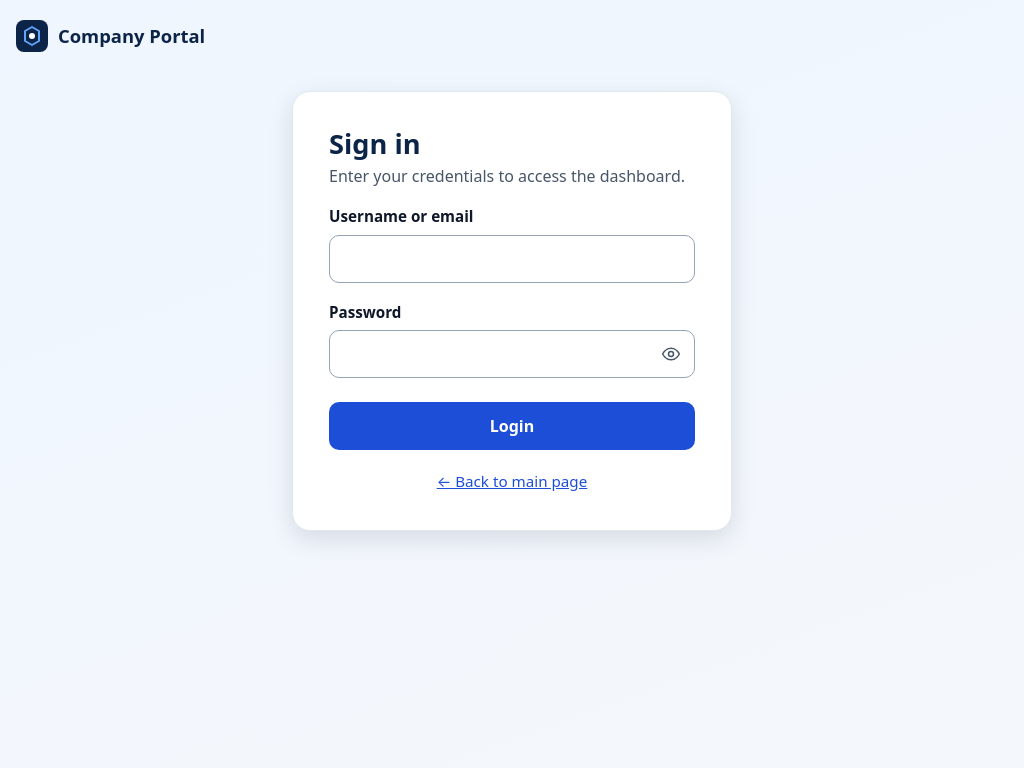
Test: login › navigates to the dashboard after a successful login
Type "asha" into the field labelled "Username or email".
click(512, 259); type("asha")  # box [329, 235, 695, 283]
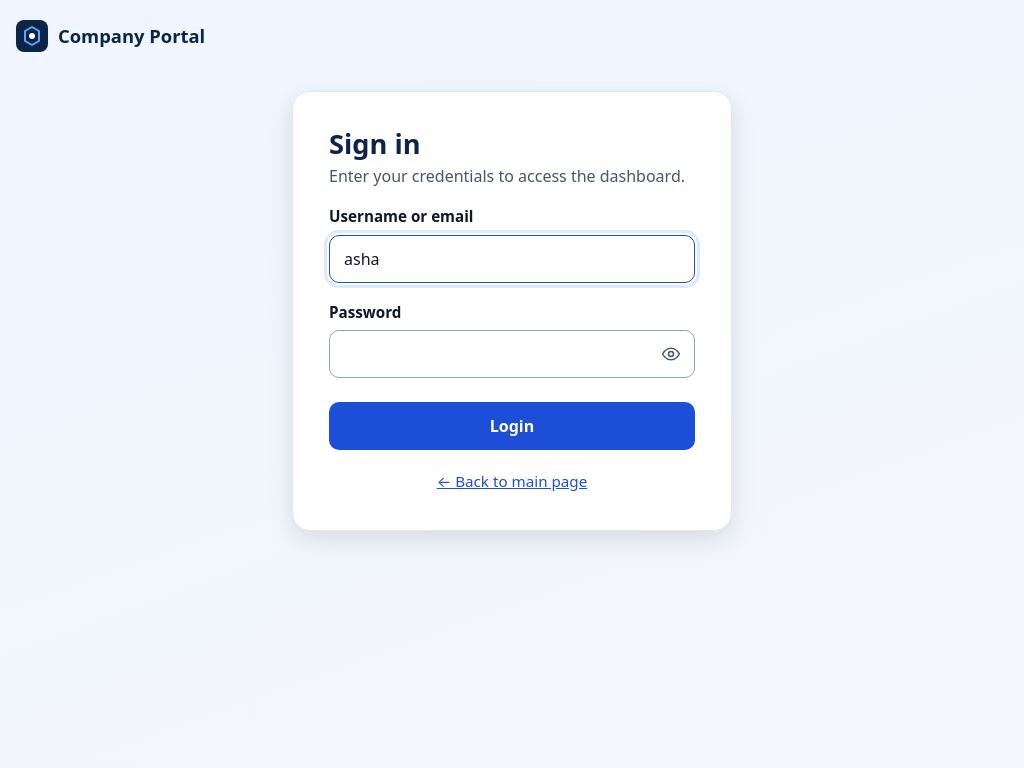
Type "Correct-horse-9" into the password field labelled "Password".
click(512, 354); type("Correct-horse-9")  # box [329, 330, 695, 378]
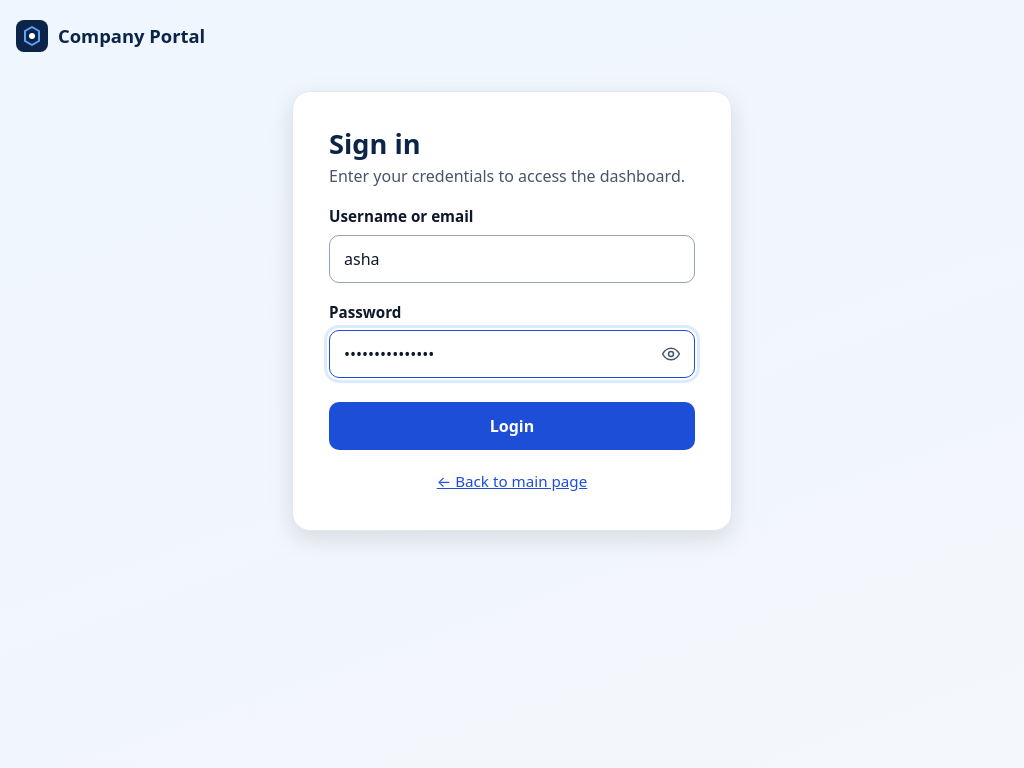
Click the button "Login".
click(512, 426)  # box [329, 402, 695, 450]
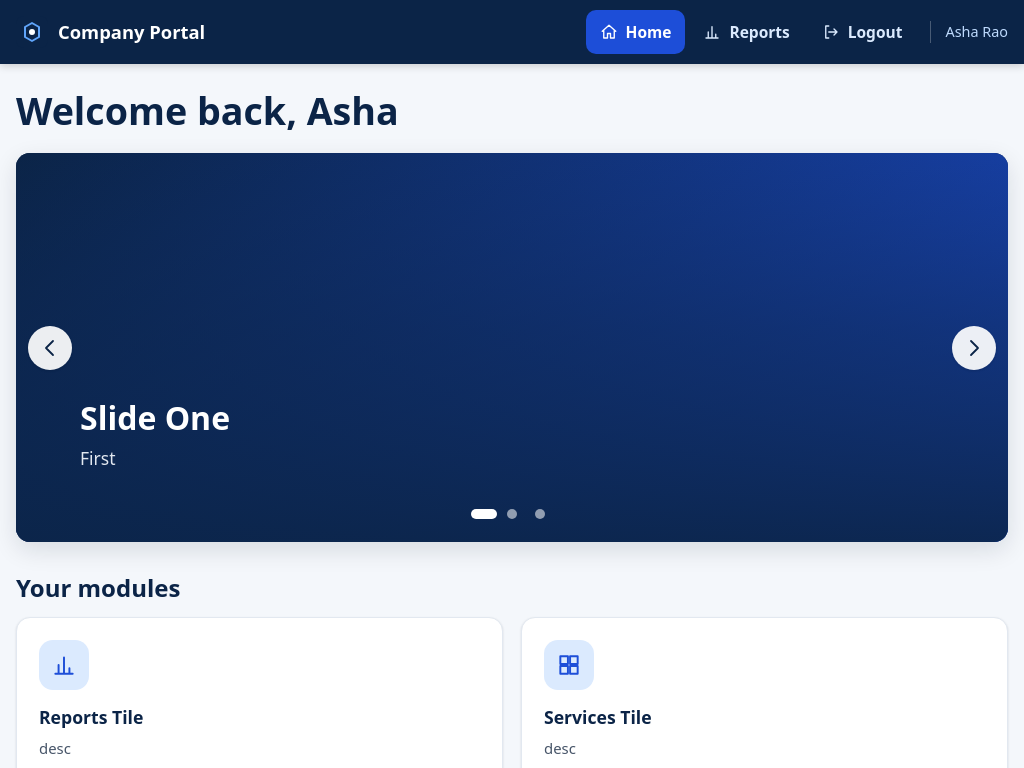
Result: the heading "Welcome back, Asha" is shown at [16, 85, 399, 136]
